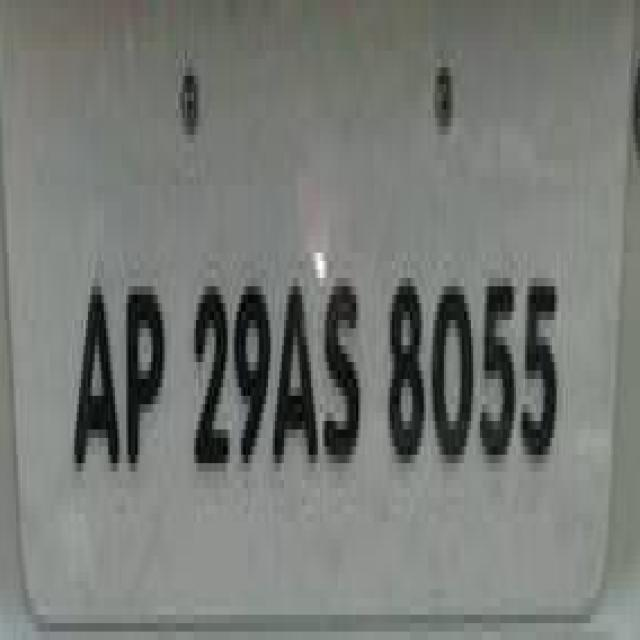license_plate: (32, 34, 631, 623)
